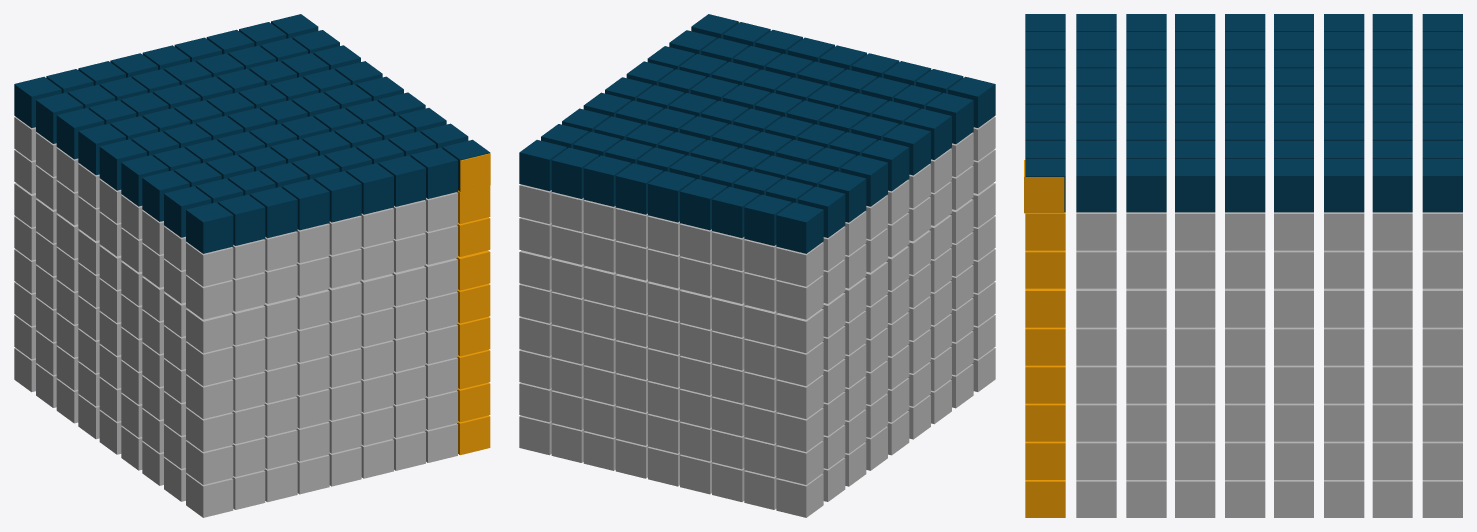
The model's file is mudi_cube.glb.
The picture shows the model from 3 angles, left to right: view 1: azimuth 30°, elevation 25°; view 2: azimuth 150°, elevation 25°; view 3: azimuth 270°, elevation 25°; orthographic projection. The views are drawn at different scales.
Visible parts, largest first — view 1: mesh_id1591, mesh_id1590, mesh_id1592, mesh_id1589, mesh_id1605, mesh_id1608, mesh_id1609, mesh_id1587, mesh_id1584, mesh_id1596, mesh_id1588, mesh_id1586 (+206 smaller); view 2: mesh_id1420, mesh_id1419, mesh_id1425, mesh_id1379, mesh_id1434, mesh_id1415, mesh_id1414, mesh_id1421, mesh_id1391, mesh_id1390, mesh_id1412, mesh_id1413 (+205 smaller); view 3: mesh_id643, mesh_id725, mesh_id1390, mesh_id1144, mesh_id1226, mesh_id391, mesh_id224, mesh_id1308, mesh_id724, mesh_id642, mesh_id1560, mesh_id163 (+142 smaller).
Part boxes in pixels (left/top/right/bottom): mesh_id1591: left=186, top=202, right=233, bottom=253; mesh_id1590: left=186, top=308, right=233, bottom=353; mesh_id1592: left=218, top=194, right=265, bottom=245; mesh_id1589: left=186, top=407, right=233, bottom=451; mesh_id1605: left=250, top=187, right=297, bottom=238; mesh_id1608: left=282, top=179, right=329, bottom=230; mesh_id1609: left=314, top=171, right=361, bottom=222; mesh_id1587: left=186, top=473, right=233, bottom=517; mesh_id1584: left=186, top=242, right=233, bottom=286; mesh_id1596: left=346, top=163, right=393, bottom=214; mesh_id1588: left=186, top=374, right=233, bottom=418; mesh_id1586: left=186, top=440, right=233, bottom=484; mesh_id1420: left=776, top=202, right=823, bottom=253; mesh_id1419: left=776, top=308, right=823, bottom=353; mesh_id1425: left=615, top=163, right=663, bottom=214; mesh_id1379: left=583, top=155, right=631, bottom=206; mesh_id1434: left=712, top=186, right=759, bottom=237; mesh_id1415: left=776, top=440, right=823, bottom=484; mesh_id1414: left=776, top=275, right=823, bottom=319; mesh_id1421: left=744, top=194, right=791, bottom=245; mesh_id1391: left=551, top=147, right=598, bottom=198; mesh_id1390: left=519, top=140, right=566, bottom=191; mesh_id1412: left=776, top=342, right=823, bottom=386; mesh_id1413: left=776, top=242, right=823, bottom=286; mesh_id643: left=1076, top=159, right=1116, bottom=212; mesh_id725: left=1126, top=159, right=1166, bottom=212; mesh_id1390: left=1422, top=159, right=1462, bottom=212; mesh_id1144: left=1372, top=159, right=1412, bottom=212; mesh_id1226: left=1324, top=159, right=1364, bottom=212; mesh_id391: left=1225, top=159, right=1265, bottom=212; mesh_id224: left=1175, top=159, right=1215, bottom=212; mesh_id1308: left=1274, top=159, right=1313, bottom=212; mesh_id724: left=1126, top=288, right=1166, bottom=327; mesh_id642: left=1076, top=288, right=1116, bottom=327; mesh_id1560: left=1025, top=288, right=1065, bottom=327; mesh_id163: left=1175, top=288, right=1215, bottom=327.
Bounding box in the file's own units: 0.6486 × 0.6383 × 0.7425.
Materials: 91 (91 with a texture image).
